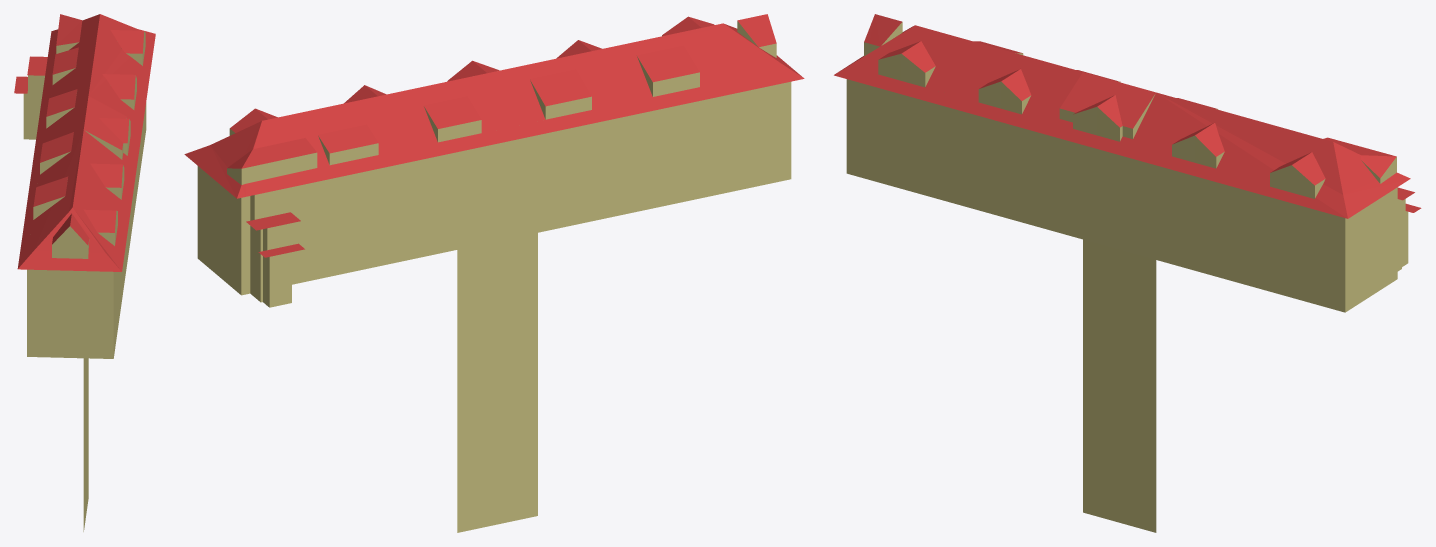
The picture shows the model from 3 angles, left to right: view 1: azimuth 30°, elevation 25°; view 2: azimuth 150°, elevation 25°; view 3: azimuth 270°, elevation 25°; orthographic projection. The views are drawn at different scales.
Visible parts, largest first — view 1: group_3, group_27, group_26, group_8, group_28, group_13, group_36, group_6, group_24, group_16, group_4, group_20 (+14 smaller); view 2: group_27, group_3, group_28, group_26, group_36, group_20, group_24, group_7, group_6, group_32, group_22, group_18 (+4 smaller); view 3: group_27, group_28, group_3, group_26, group_8, group_9, group_11, group_17, group_15, group_5, group_6, group_12 (+2 smaller).
Boxes of the visible parts, x1,y1,x2,y2 form: group_3: (18,14,155,271); group_27: (27,102,146,358); group_26: (17,31,155,271); group_8: (83,96,129,149); group_28: (83,358,88,531); group_13: (52,226,89,258); group_36: (28,75,44,139); group_6: (56,14,82,45); group_24: (33,176,68,206); group_16: (110,30,144,53); group_4: (102,74,135,99); group_20: (40,132,73,162); group_27: (197,81,791,296); group_3: (184,23,803,198); group_28: (457,233,537,532); group_26: (185,57,804,198); group_36: (254,223,289,305); group_20: (530,69,591,106); group_24: (637,45,699,82); group_7: (227,152,317,184); group_6: (227,138,316,168); group_32: (267,252,291,307); group_22: (424,96,481,128); group_18: (318,124,378,153); group_27: (846,79,1397,312); group_28: (1083,239,1156,532); group_3: (834,25,1409,218); group_26: (834,67,1410,218); group_8: (1060,72,1155,128); group_9: (1059,94,1155,141); group_11: (878,53,935,87); group_17: (1270,165,1325,198); group_15: (978,81,1030,114); group_5: (1172,135,1224,168); group_6: (1323,137,1396,178); group_12: (864,14,901,46).
Size of the model in its own units: 44.77 by 60.53 by 50.
